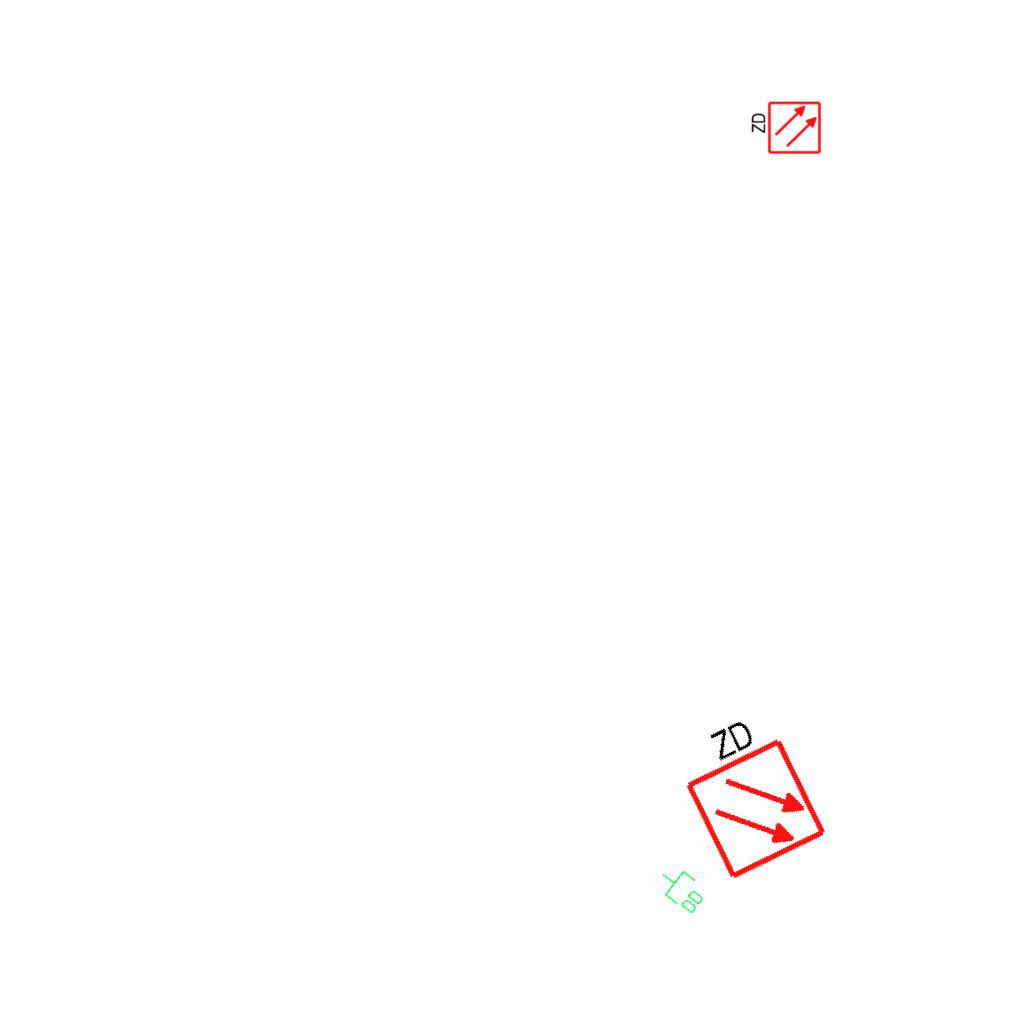Datenanschluss_zweifach: (650, 860, 713, 918)
ZD_Melder_in_Zwischendecke_mit_Revisionsoeffnung_mind_40_x_40_cm: (662, 700, 830, 885), (748, 100, 822, 157)
